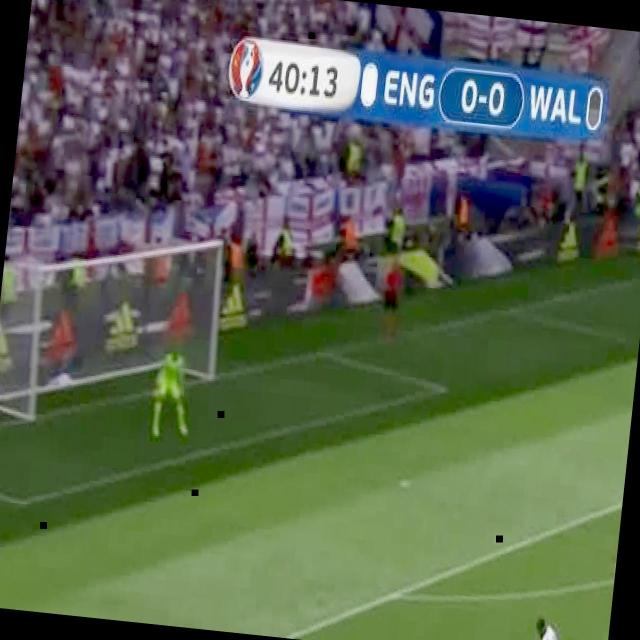player-white: (150, 340, 196, 440), (377, 254, 404, 340), (530, 614, 590, 640)
